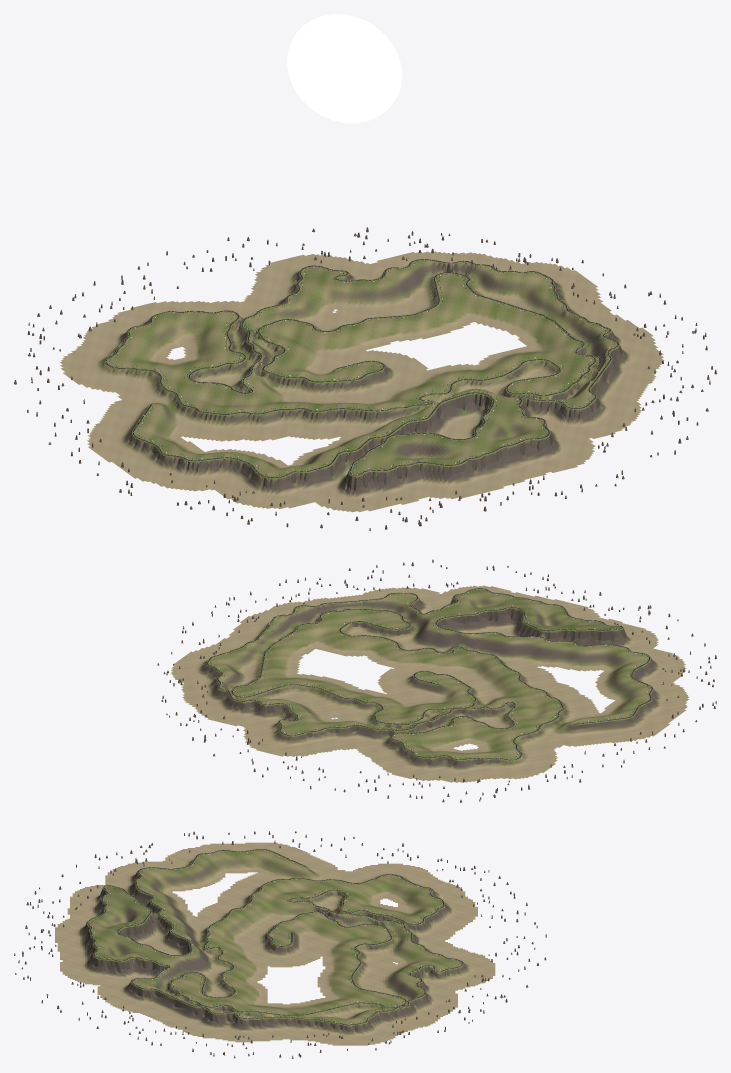
The model's file is coast.glb.
3 views of the same model, one above another, from view 1: azimuth 30°, elevation 25°; view 2: azimuth 150°, elevation 25°; view 3: azimuth 270°, elevation 25° (orthographic). The views are drawn at different scales.
Parts seen in each view (by area): view 1: Sun, Land_026, Land_013, Land_003, Land_032, Land_025, Land_031, Land_011, Land_000, Land_019, Land_021, Land_018 (+23 smaller); view 2: Land_013, Land_032, Land_003, Land_000, Land_020, Land_018, Land_011, Land_033, Land_030, Land_031, Land_021, Land_014 (+22 smaller); view 3: Land_032, Land_025, Land_003, Land_000, Land_013, Land_021, Land_022, Land_020, Land_023, Land_019, Land_011, Land_031 (+22 smaller).
Boxes of the visible parts, <box> form: Sun: <box>287,14,402,123</box>; Land_026: <box>360,448,510,506</box>; Land_013: <box>60,308,188,384</box>; Land_003: <box>326,303,474,357</box>; Land_032: <box>108,434,274,491</box>; Land_025: <box>472,417,595,484</box>; Land_031: <box>215,456,348,509</box>; Land_011: <box>171,400,322,441</box>; Land_000: <box>305,350,428,403</box>; Land_019: <box>270,254,409,310</box>; Land_021: <box>483,262,611,315</box>; Land_018: <box>240,264,335,322</box>; Land_013: <box>409,748,555,782</box>; Land_032: <box>595,671,688,724</box>; Land_003: <box>283,673,411,718</box>; Land_000: <box>377,665,489,702</box>; Land_020: <box>181,676,276,726</box>; Land_018: <box>284,718,389,756</box>; Land_011: <box>490,675,599,722</box>; Land_033: <box>556,712,668,746</box>; Land_030: <box>489,633,600,671</box>; Land_031: <box>592,645,686,683</box>; Land_021: <box>171,638,255,683</box>; Land_014: <box>357,731,453,778</box>; Land_032: <box>162,842,260,890</box>; Land_025: <box>57,931,137,985</box>; Land_003: <box>317,943,395,998</box>; Land_000: <box>237,924,325,967</box>; Land_013: <box>378,863,477,911</box>; Land_021: <box>290,1009,397,1045</box>; Land_022: <box>182,1009,299,1042</box>; Land_020: <box>383,978,457,1032</box>; Land_023: <box>105,981,210,1029</box>; Land_019: <box>380,959,495,990</box>; Land_011: <box>217,873,300,923</box>; Land_031: <box>105,861,187,904</box>.
Size of what is drawn, in the model's own units: 4942 by 844 by 6481.
